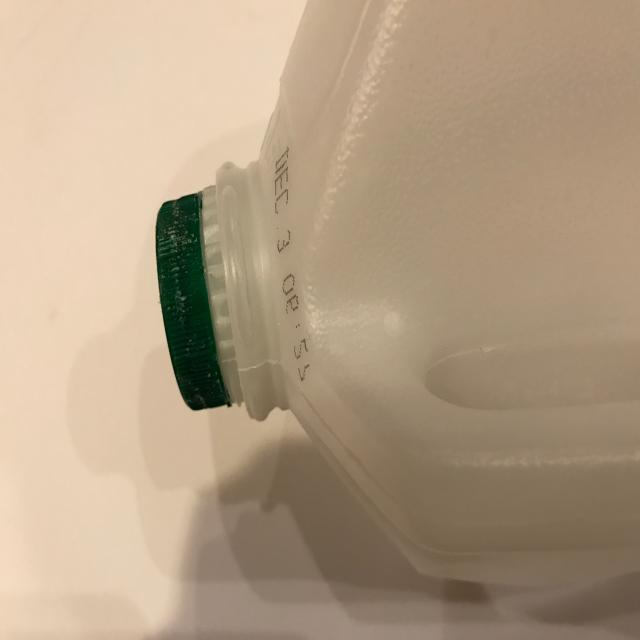plastic: (156, 0, 640, 587)
